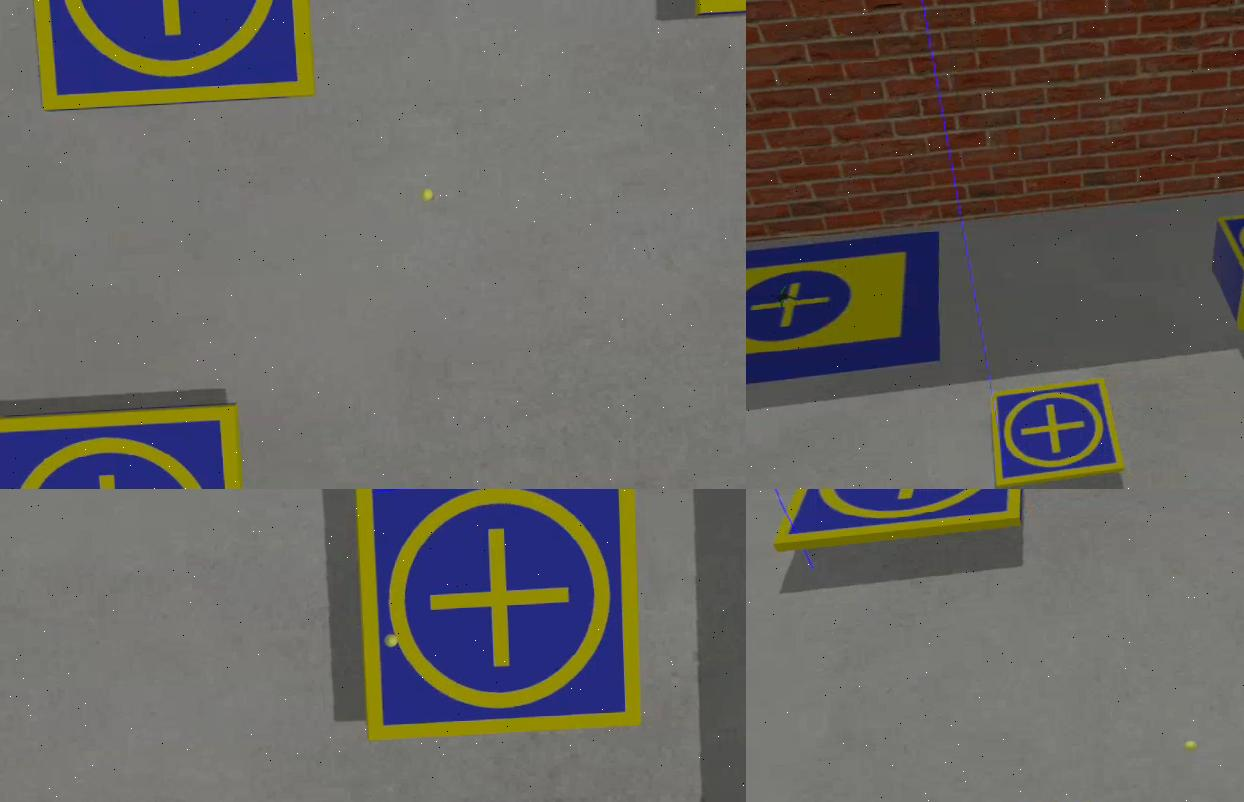large_base: (747, 235, 948, 406)
small_base: (353, 490, 648, 745), (22, 1, 316, 114), (1, 402, 252, 490), (773, 490, 1031, 552), (989, 375, 1128, 490)
